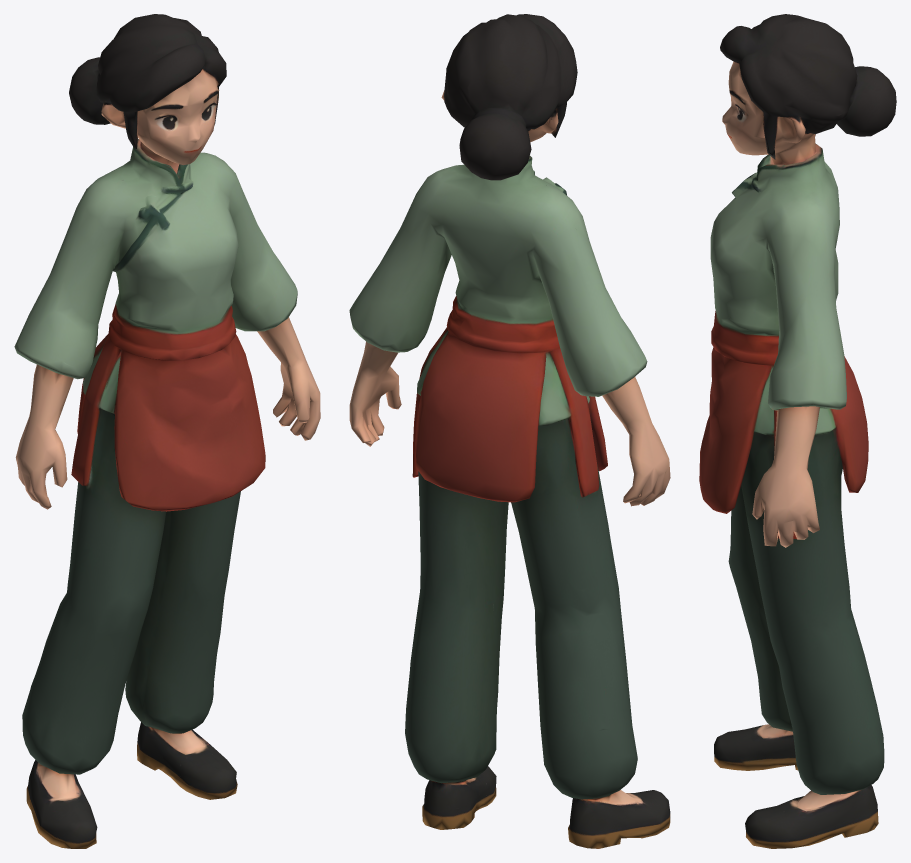
The model's file is ajan.glb.
3 renders of one model, left to right at view 1: azimuth 30°, elevation 25°; view 2: azimuth 150°, elevation 25°; view 3: azimuth 270°, elevation 25°, orthographic. The views are drawn at different scales.
Visible parts, largest first — view 1: tripo_node_e7fefefc-339d-460b-abc2-290337c7c154; view 2: tripo_node_e7fefefc-339d-460b-abc2-290337c7c154; view 3: tripo_node_e7fefefc-339d-460b-abc2-290337c7c154.
Part boxes in pixels (<box>): tripo_node_e7fefefc-339d-460b-abc2-290337c7c154: <box>14,14,320,848</box>; tripo_node_e7fefefc-339d-460b-abc2-290337c7c154: <box>349,14,670,848</box>; tripo_node_e7fefefc-339d-460b-abc2-290337c7c154: <box>699,14,896,848</box>.
Bounding box in the file's own units: 0.4031 × 1 × 0.2239.
1 material, 1 textured.
